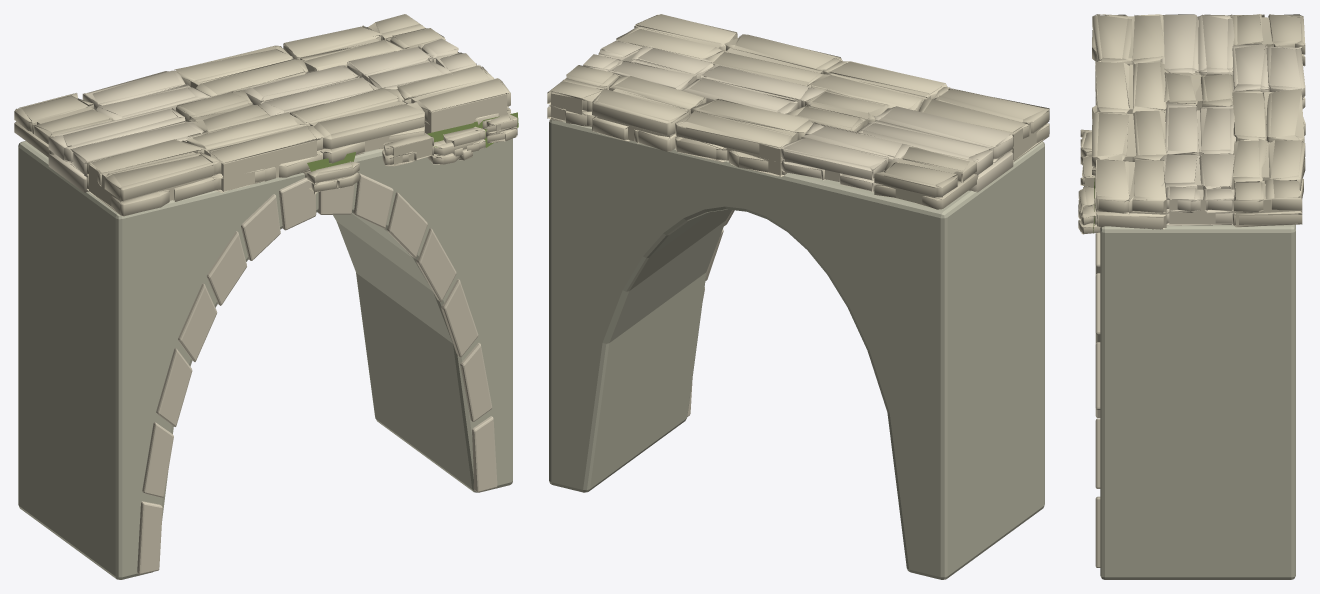
File: bridge-05.glb
The picture shows the model from 3 angles, left to right: view 1: azimuth 30°, elevation 25°; view 2: azimuth 150°, elevation 25°; view 3: azimuth 270°, elevation 25°; orthographic projection. The views are drawn at different scales.
Visible parts, largest first — view 1: Continuous arch foundation.004, CC0 worn paving.040, CC0 worn paving.041, CC0 worn paving.042, CC0 worn paving.044, CC0 worn paving.043, CC0 worn paving.051, CC0 worn paving.046, CC0 worn paving.050, CC0 worn paving.049, CC0 worn paving.052, CC0 worn paving.047 (+22 smaller); view 2: Continuous arch foundation.004, CC0 worn paving.051, CC0 worn paving.044, CC0 worn paving.052, CC0 worn paving.050, CC0 worn paving.049, CC0 worn paving.040, CC0 worn paving.041, CC0 worn paving.042, CC0 worn paving.046, CC0 worn paving.043, CC0 worn paving.053 (+3 smaller); view 3: Continuous arch foundation.004, CC0 worn paving.043, CC0 worn paving.044, CC0 worn paving.042, CC0 worn paving.051, CC0 worn paving.041, CC0 worn paving.040, CC0 worn paving.046, CC0 worn paving.050, CC0 worn paving.053, CC0 worn paving.052, CC0 worn paving.048 (+11 smaller).
Part boxes in pixels (<box>): Continuous arch foundation.004: <box>18,138,512,579</box>; CC0 worn paving.040: <box>86,139,222,216</box>; CC0 worn paving.041: <box>186,112,323,192</box>; CC0 worn paving.042: <box>289,87,424,163</box>; CC0 worn paving.044: <box>48,108,203,192</box>; CC0 worn paving.043: <box>397,65,510,133</box>; CC0 worn paving.051: <box>174,45,308,96</box>; CC0 worn paving.046: <box>242,65,378,116</box>; CC0 worn paving.050: <box>82,70,211,122</box>; CC0 worn paving.049: <box>14,93,113,157</box>; CC0 worn paving.052: <box>283,25,402,71</box>; CC0 worn paving.047: <box>347,47,452,89</box>; Continuous arch foundation.004: <box>549,119,1044,579</box>; CC0 worn paving.051: <box>675,99,814,176</box>; CC0 worn paving.044: <box>857,106,1013,192</box>; CC0 worn paving.052: <box>592,76,706,151</box>; CC0 worn paving.050: <box>780,122,913,192</box>; CC0 worn paving.049: <box>874,146,978,209</box>; CC0 worn paving.040: <box>919,86,1049,161</box>; CC0 worn paving.041: <box>809,61,948,111</box>; CC0 worn paving.042: <box>701,34,842,86</box>; CC0 worn paving.046: <box>682,64,824,113</box>; CC0 worn paving.043: <box>616,14,737,59</box>; CC0 worn paving.053: <box>547,65,622,126</box>; Continuous arch foundation.004: <box>1100,224,1295,579</box>; CC0 worn paving.043: <box>1094,158,1166,229</box>; CC0 worn paving.044: <box>1160,14,1234,75</box>; CC0 worn paving.042: <box>1092,110,1167,177</box>; CC0 worn paving.051: <box>1232,88,1305,142</box>; CC0 worn paving.041: <box>1092,61,1168,123</box>; CC0 worn paving.040: <box>1092,14,1164,64</box>; CC0 worn paving.046: <box>1165,102,1235,155</box>; CC0 worn paving.050: <box>1230,43,1305,108</box>; CC0 worn paving.053: <box>1233,179,1302,227</box>; CC0 worn paving.052: <box>1232,139,1305,198</box>; CC0 worn paving.048: <box>1166,186,1234,225</box>.
Bounding box in the file's own units: 5 × 4.78 × 2.58.
